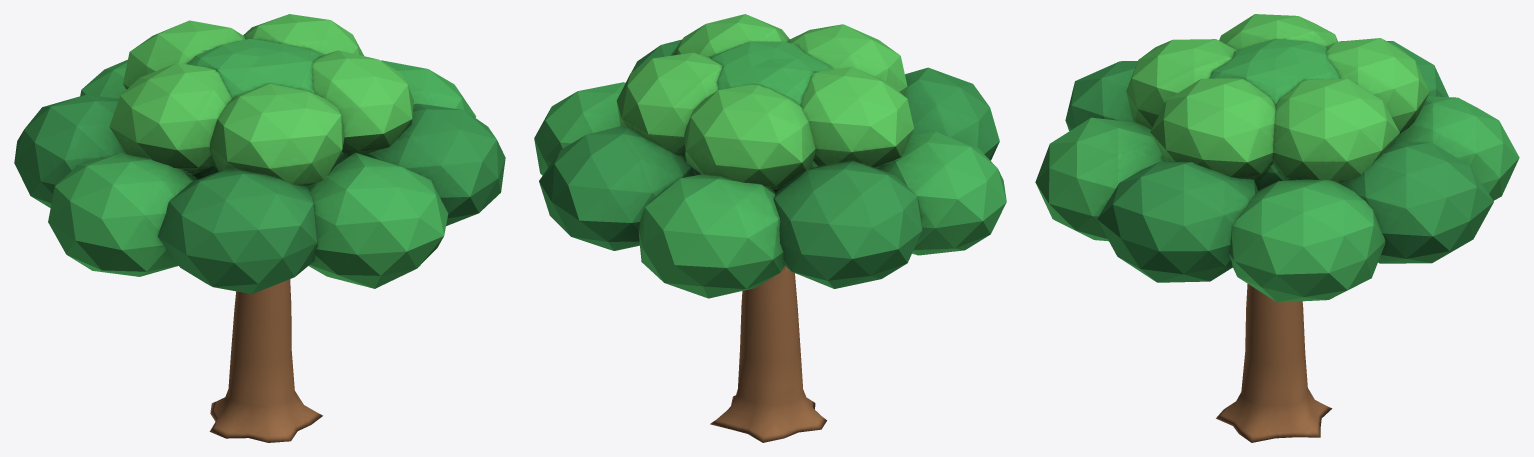
File: tree_oak.glb
3 renders of one model, left to right at view 1: azimuth 30°, elevation 25°; view 2: azimuth 150°, elevation 25°; view 3: azimuth 270°, elevation 25°, orthographic.
Visible parts, largest first — view 1: tree_oak; view 2: tree_oak; view 3: tree_oak.
Boxes of the visible parts, x1=… form: tree_oak: x1=14, y1=14, x2=505, y2=442; tree_oak: x1=534, y1=14, x2=1006, y2=442; tree_oak: x1=1035, y1=14, x2=1519, y2=442.
Bounding box in the file's own units: 6.02 × 4.9 × 5.92.
Materials: 4 (4 with a texture image).
